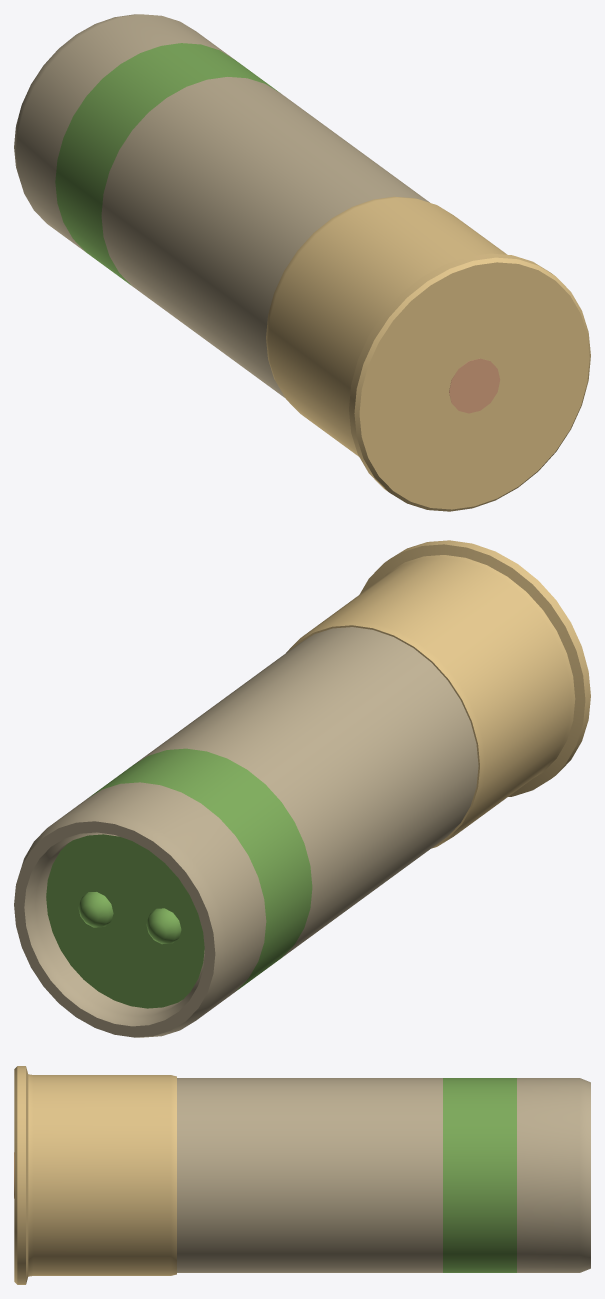
File: flare_green.glb
The picture shows the model from 3 angles, top to bottom: view 1: azimuth 30°, elevation 25°; view 2: azimuth 150°, elevation 25°; view 3: azimuth 270°, elevation 25°; orthographic projection. The views are drawn at different scales.
Visible parts, largest first — view 1: body; view 2: body; view 3: body.
Part boxes in pixels (bbox=[...]): body: bbox=[14, 14, 590, 511]; body: bbox=[14, 540, 590, 1037]; body: bbox=[14, 1066, 590, 1284].
Size of the model in its own units: 0.0296 by 0.0296 by 0.078.
